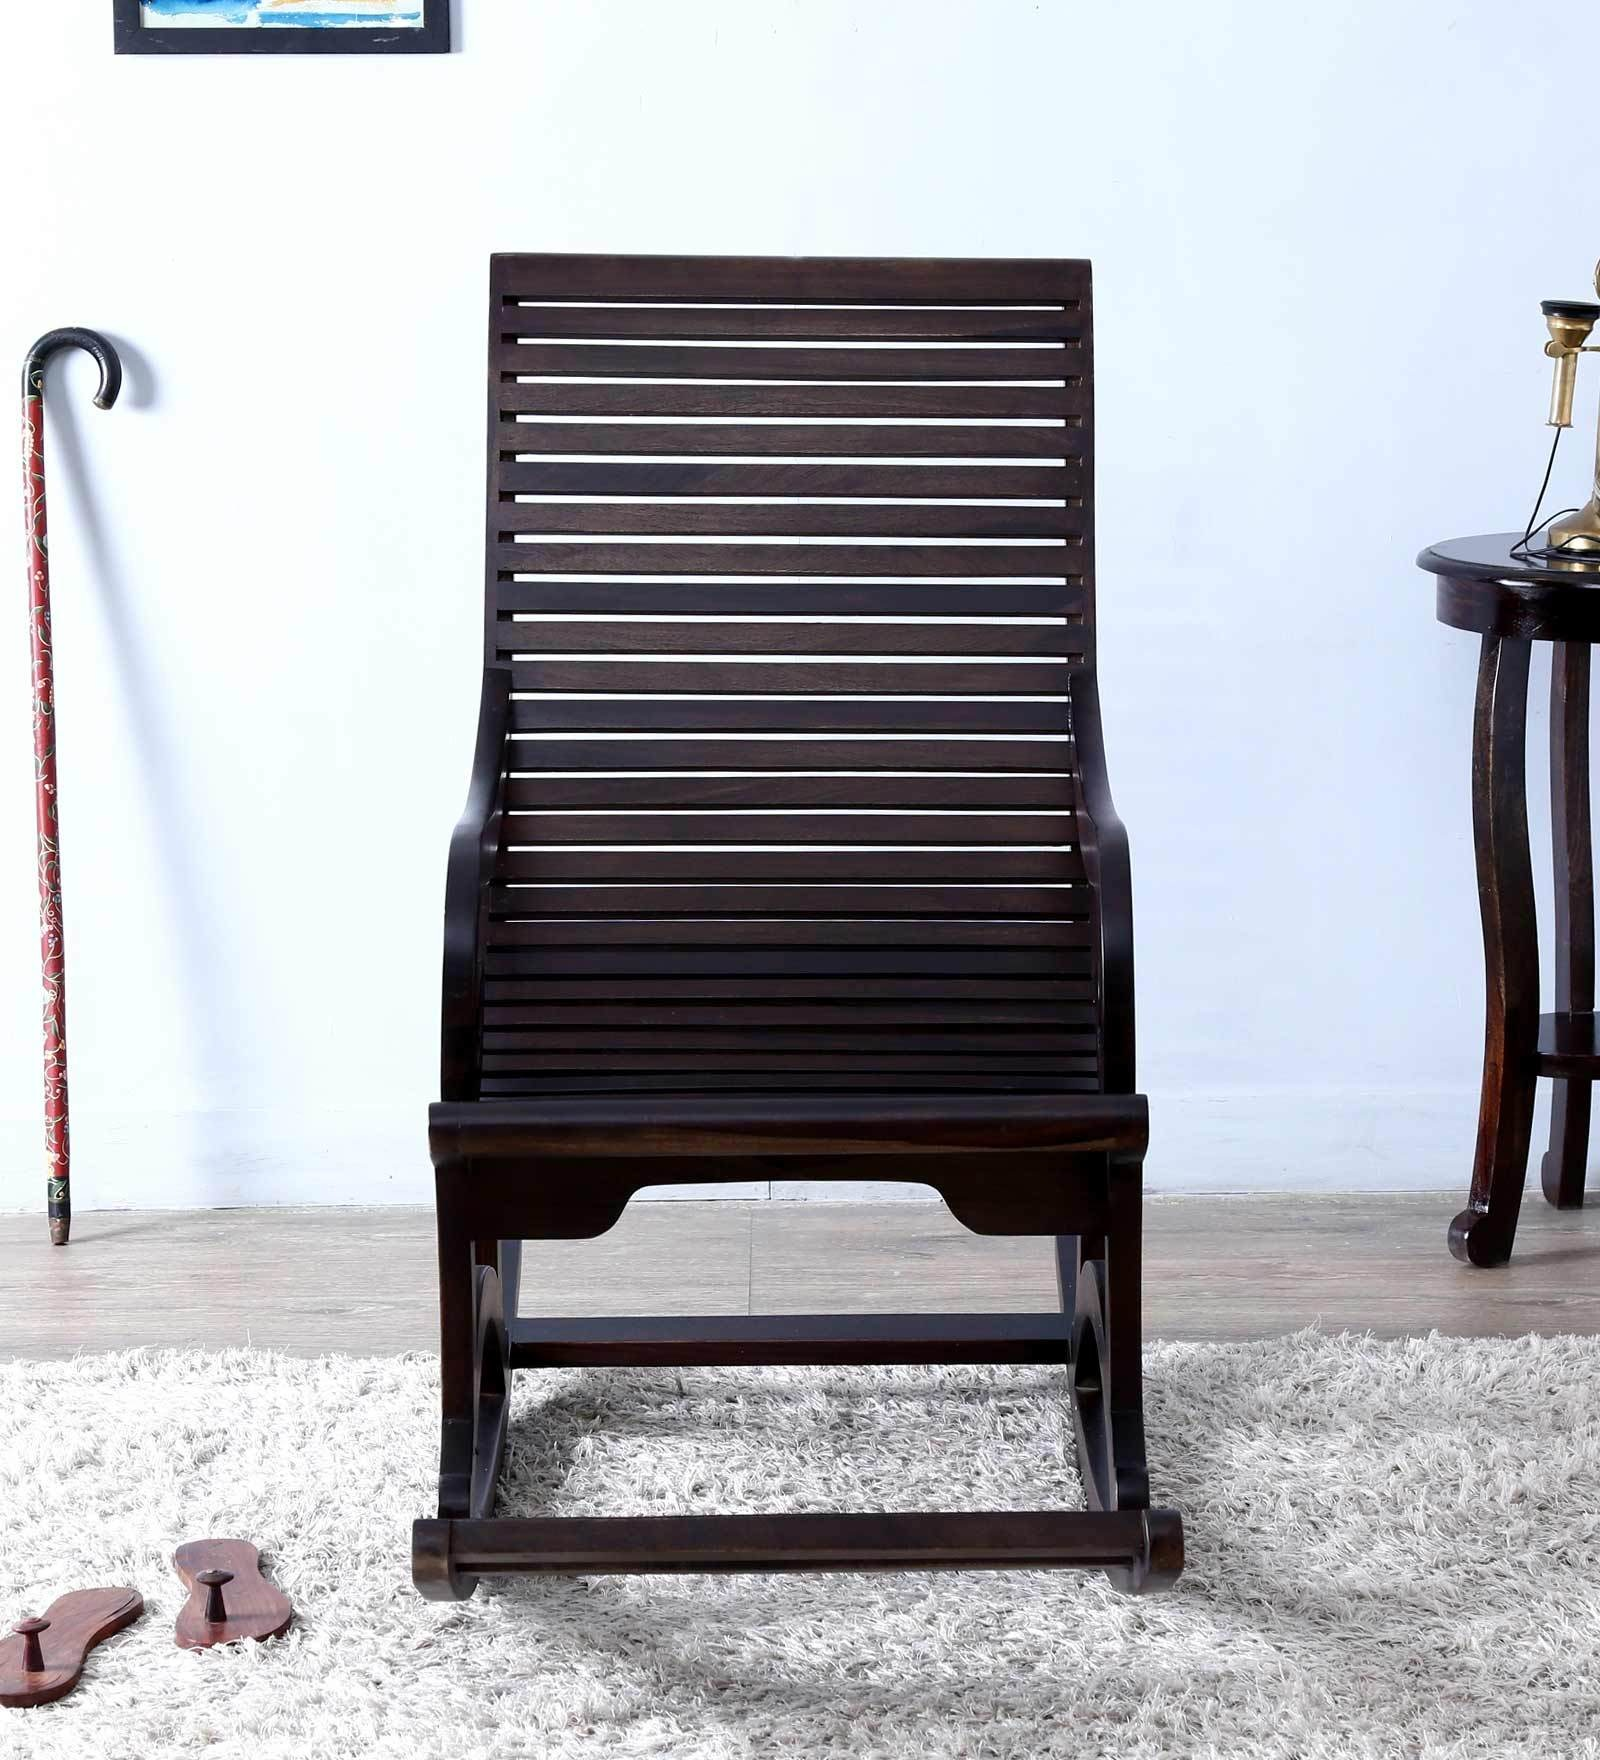Wellesley Rocking Chair in Warm Chestnut Finish by Amberville: (323, 218, 1297, 1627)
